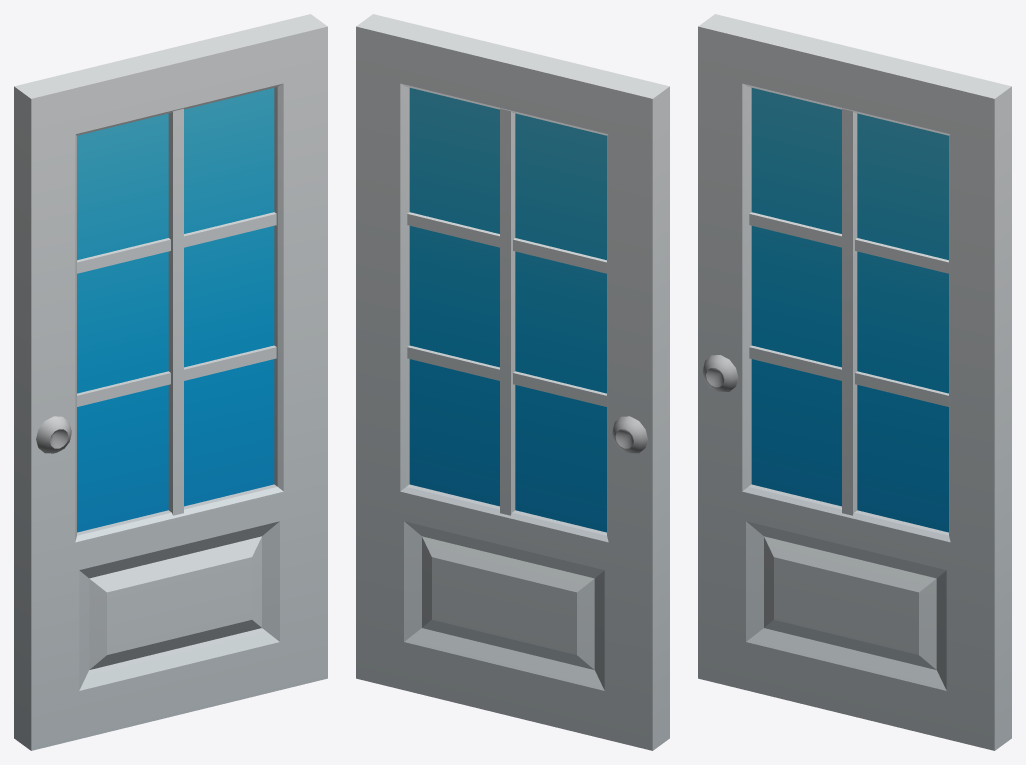
The model's file is Door_White_01.glb.
3 renders of one model, left to right at view 1: azimuth 30°, elevation 25°; view 2: azimuth 150°, elevation 25°; view 3: azimuth 330°, elevation 25°, orthographic.
Visible parts, largest first — view 1: Door_White_01; view 2: Door_White_01; view 3: Door_White_01.
Boxes of the visible parts, x1,y1,x2,y2 form: Door_White_01: (14,14,327,750); Door_White_01: (356,14,669,750); Door_White_01: (698,14,1011,750).
Bounding box in the file's own units: 1 × 2.1 × 0.1634.
2 materials, 2 textured.
